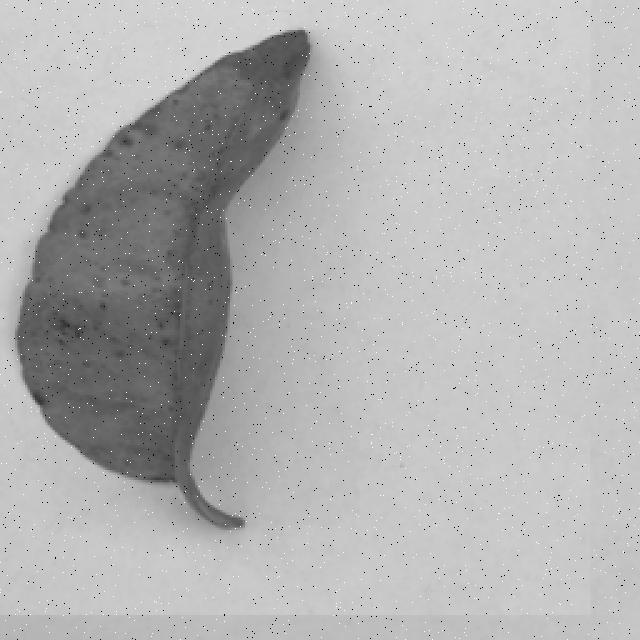blackspot: (0, 24, 323, 541)
